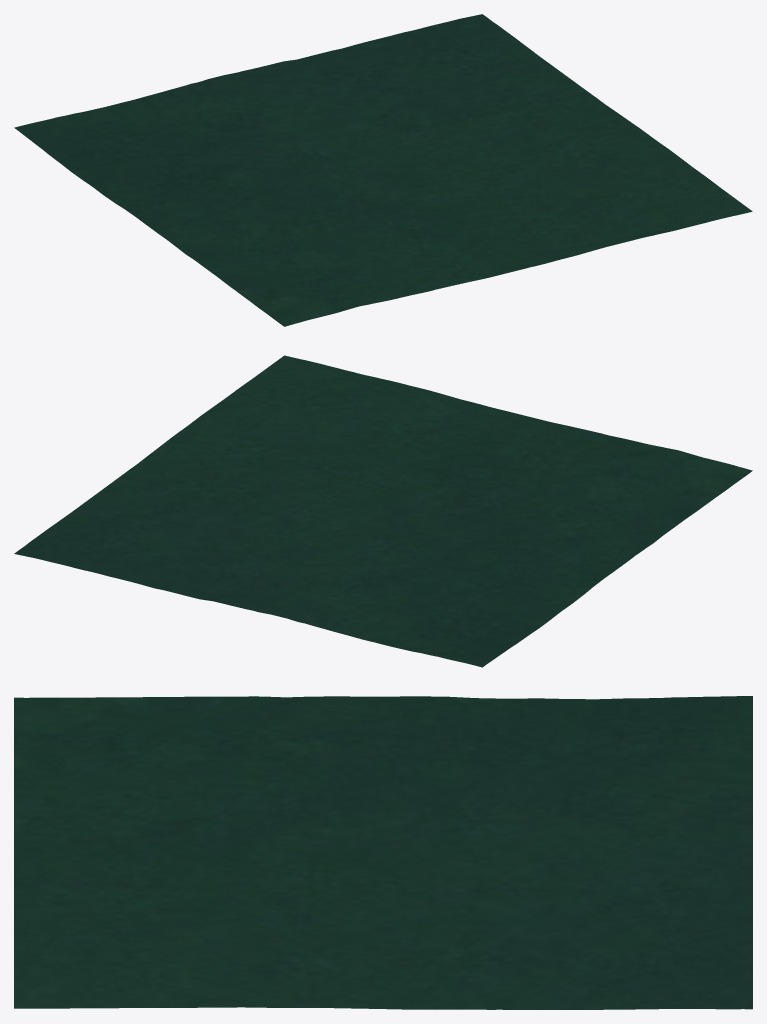
The picture shows the model from 3 angles, top to bottom: view 1: azimuth 30°, elevation 25°; view 2: azimuth 150°, elevation 25°; view 3: azimuth 270°, elevation 25°; orthographic projection. The views are drawn at different scales.
Size of the model in its own units: 104 by 0.8639 by 104.
2 materials, 2 textured.
